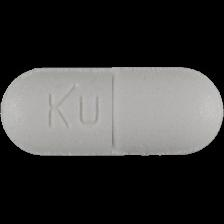50268-452: (0, 0, 224, 224)
